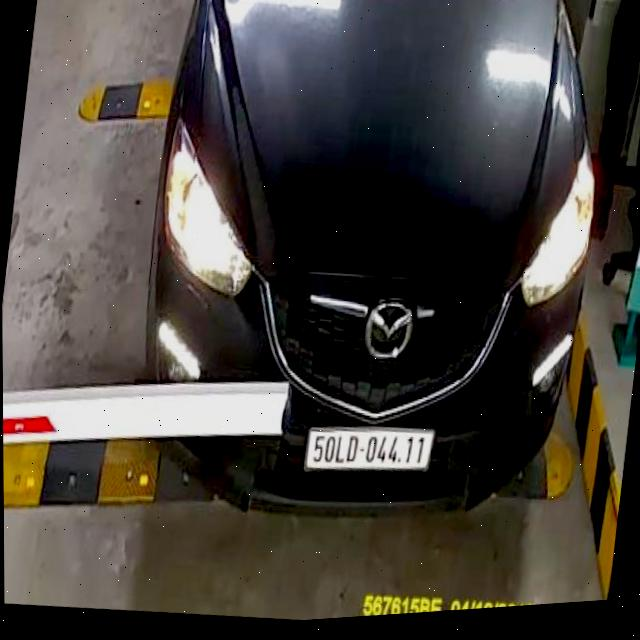car: (110, 0, 632, 581)
plate: (292, 411, 444, 492)
